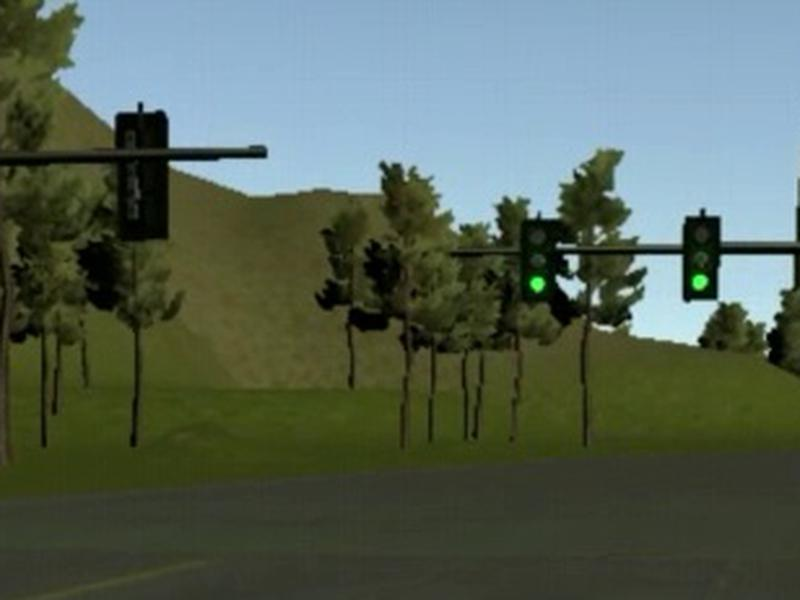Green: (681, 215, 720, 304), (519, 218, 555, 301)
